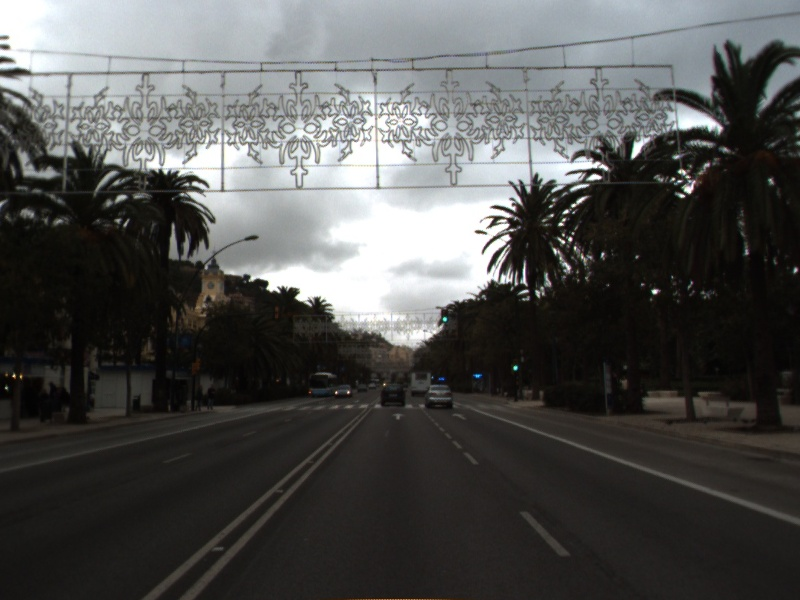STRAIGHT: (449, 410, 469, 422), (389, 411, 407, 422)
